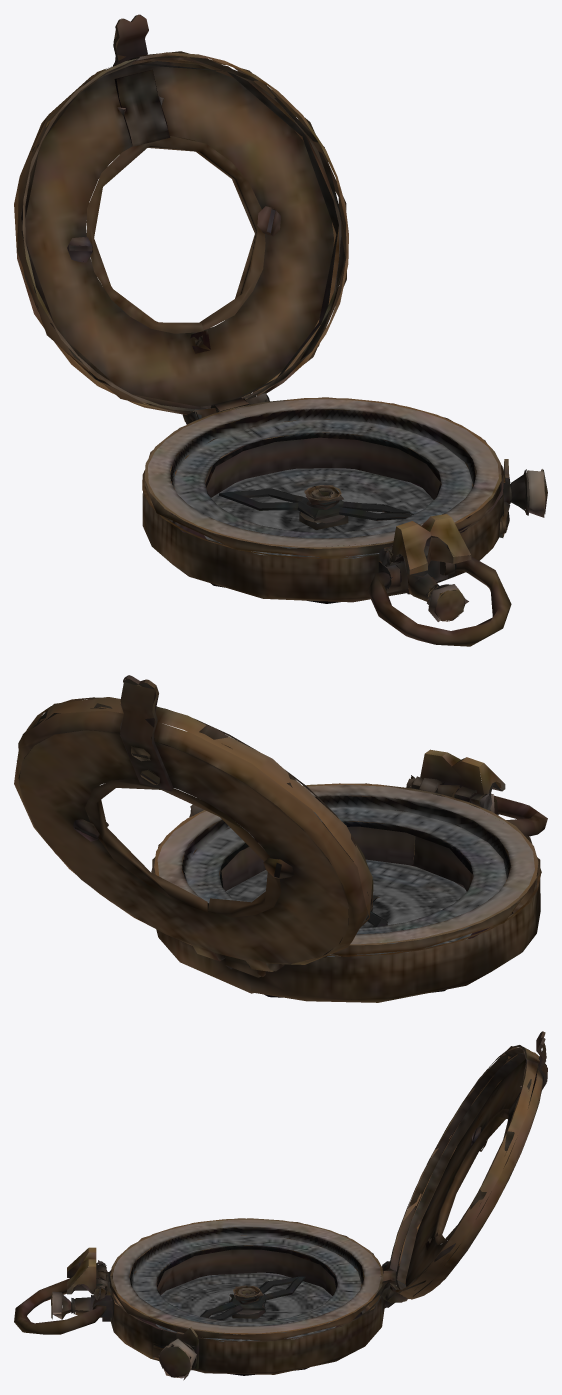
Rendered from compass.glb.
3 views of the same model, one above another, from view 1: azimuth 30°, elevation 25°; view 2: azimuth 150°, elevation 25°; view 3: azimuth 270°, elevation 25° (orthographic). The views are drawn at different scales.
Visible parts, largest first — view 1: seadogs_compass; view 2: seadogs_compass; view 3: seadogs_compass.
Part boxes in pixels (x1,y1,x2,y2): seadogs_compass: [14, 14, 547, 646]; seadogs_compass: [14, 675, 547, 1002]; seadogs_compass: [14, 1031, 547, 1380].
Bounding box in the file's own units: 0.0818 × 0.0867 × 0.1443.
Materials: 1 (1 with a texture image).
